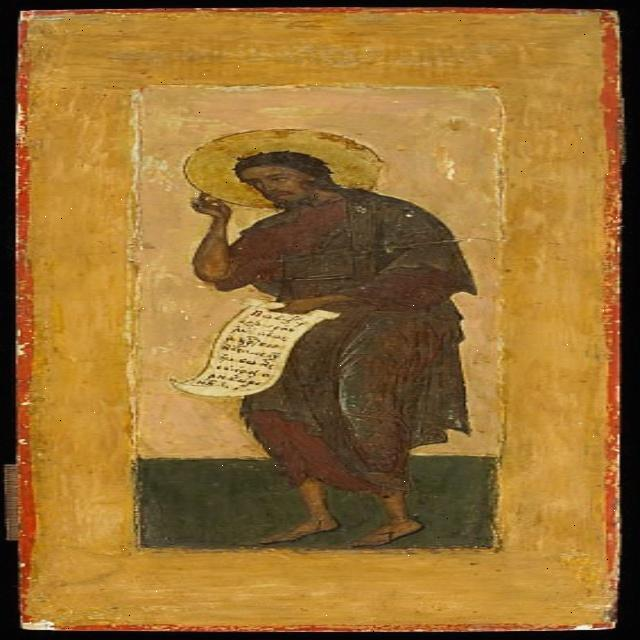aura: (181, 126, 394, 210)
saint: (169, 117, 491, 552)
scroll: (168, 297, 355, 405)
